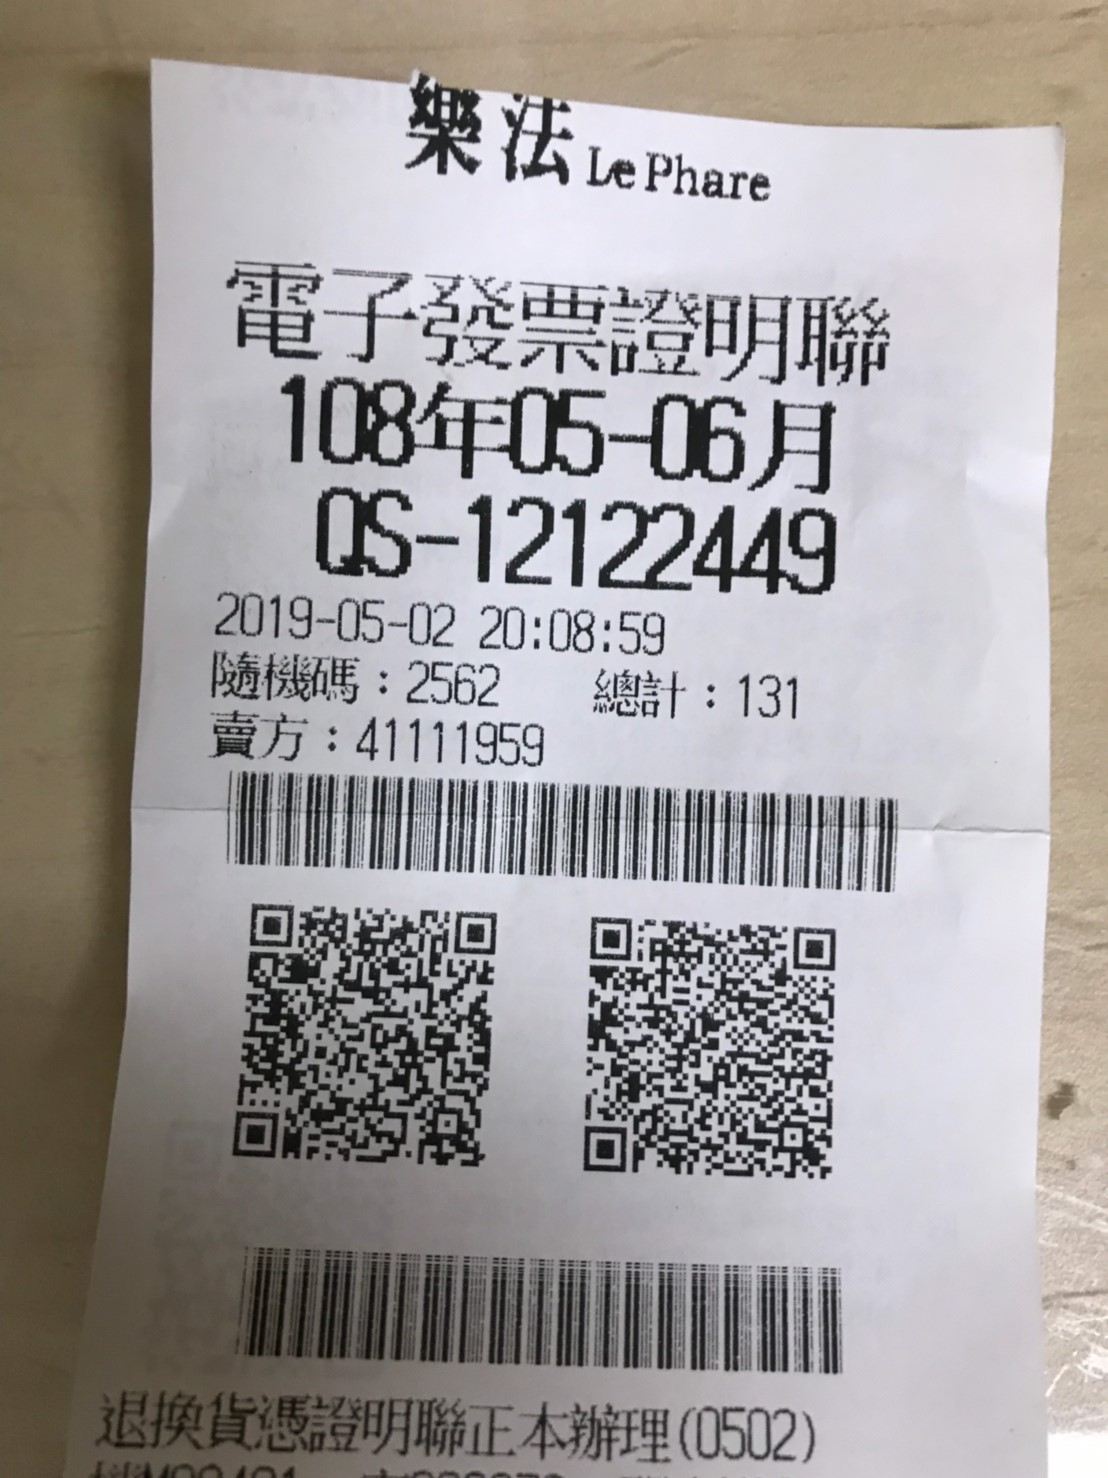Date_New: (277, 370, 841, 498)
Number_New: (469, 486, 841, 603)
